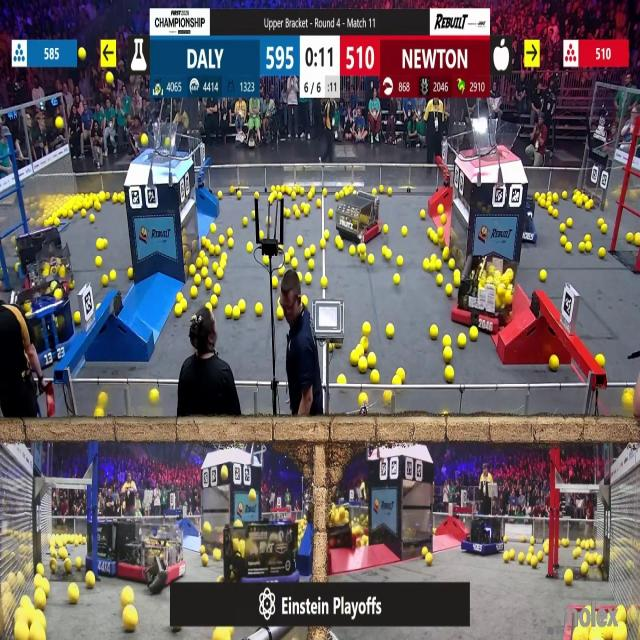ball_airborne: (624, 388, 635, 411), (106, 72, 114, 84), (249, 489, 256, 502), (141, 134, 148, 146), (57, 116, 64, 128), (78, 46, 84, 58), (165, 138, 172, 148)
ball_ground: (124, 610, 138, 633), (121, 589, 132, 606), (35, 592, 46, 609), (69, 586, 79, 604), (86, 572, 96, 588), (550, 355, 560, 370), (366, 353, 376, 368), (357, 358, 367, 372), (369, 368, 378, 382), (446, 365, 454, 380), (564, 570, 572, 584), (445, 348, 453, 362), (150, 389, 158, 403), (99, 392, 107, 406), (386, 324, 394, 337), (429, 325, 437, 338), (337, 237, 345, 250), (458, 336, 466, 348), (362, 322, 370, 334), (597, 354, 605, 366), (384, 391, 392, 403), (582, 563, 590, 575), (255, 304, 262, 317), (469, 327, 476, 340), (225, 306, 232, 319), (175, 305, 182, 318), (351, 352, 358, 365), (96, 409, 105, 419), (444, 337, 452, 348), (213, 550, 221, 561), (393, 274, 400, 286), (74, 313, 81, 325), (277, 308, 284, 320), (358, 392, 365, 404), (435, 274, 442, 286), (454, 275, 461, 287), (204, 522, 211, 534), (571, 631, 580, 640), (338, 375, 346, 385), (627, 234, 635, 244), (360, 338, 368, 348), (180, 301, 188, 311), (396, 367, 404, 377), (66, 560, 72, 573), (539, 271, 546, 282), (306, 274, 313, 285), (578, 242, 585, 253), (234, 308, 241, 319), (203, 555, 210, 566), (97, 239, 104, 250), (60, 548, 67, 559), (37, 564, 44, 575), (273, 276, 279, 288), (444, 248, 450, 260), (240, 302, 246, 314), (393, 376, 401, 385), (386, 248, 392, 260), (426, 554, 432, 566), (43, 582, 49, 594), (211, 295, 218, 305), (213, 284, 220, 294), (102, 276, 109, 286), (519, 554, 526, 564), (195, 277, 202, 287), (188, 266, 195, 276), (205, 279, 212, 289), (585, 553, 592, 563), (510, 551, 517, 561), (190, 286, 196, 297), (309, 261, 315, 272), (435, 261, 441, 272), (447, 284, 453, 295), (424, 261, 430, 272), (586, 242, 592, 253), (76, 558, 82, 569), (531, 557, 537, 568), (26, 303, 32, 314), (358, 244, 365, 253), (284, 254, 291, 263), (321, 278, 327, 288), (599, 248, 605, 258), (290, 260, 296, 270), (110, 272, 116, 282), (264, 255, 270, 265), (296, 237, 302, 247), (306, 248, 312, 258), (217, 270, 223, 280), (303, 295, 309, 305), (247, 243, 253, 253), (449, 261, 455, 271), (566, 241, 572, 251), (288, 247, 294, 257), (396, 255, 402, 265), (310, 246, 316, 256), (553, 208, 559, 218), (284, 208, 290, 218), (439, 205, 445, 215), (203, 256, 209, 266), (202, 238, 208, 248), (553, 192, 559, 202), (118, 192, 124, 202), (572, 550, 578, 560), (212, 264, 219, 272), (586, 202, 593, 210), (220, 252, 227, 260), (129, 269, 134, 280), (360, 253, 366, 262), (601, 223, 607, 232), (350, 246, 356, 255), (202, 269, 208, 278), (560, 223, 566, 232), (197, 260, 203, 269), (218, 237, 224, 246), (537, 553, 543, 562), (176, 292, 182, 301), (560, 237, 566, 246), (214, 246, 220, 255), (100, 191, 106, 200), (428, 231, 434, 240), (269, 197, 275, 206), (97, 256, 102, 266), (401, 225, 406, 235), (503, 552, 508, 562), (635, 236, 640, 246), (96, 202, 101, 212), (543, 543, 548, 553), (527, 554, 532, 564), (420, 210, 426, 218), (320, 240, 326, 248), (316, 200, 322, 208), (442, 215, 448, 223), (80, 208, 86, 216), (207, 303, 213, 311), (294, 211, 300, 219), (440, 227, 446, 235), (422, 546, 428, 554), (539, 200, 545, 208), (277, 194, 283, 202), (308, 190, 314, 198), (279, 269, 285, 277), (336, 191, 342, 199), (598, 218, 604, 226), (563, 538, 569, 546), (227, 239, 232, 248), (367, 254, 372, 263), (259, 232, 264, 241), (324, 231, 329, 240), (567, 218, 572, 227), (305, 207, 310, 216), (297, 274, 302, 283), (576, 199, 581, 208), (363, 536, 368, 545), (562, 191, 568, 198), (244, 216, 248, 226), (217, 190, 222, 198), (227, 230, 232, 238), (388, 187, 393, 195), (322, 188, 327, 196), (430, 253, 435, 261), (112, 192, 116, 202), (68, 210, 73, 218), (254, 191, 259, 199), (537, 194, 542, 202), (291, 191, 296, 199), (384, 224, 388, 233), (212, 223, 216, 232), (586, 235, 591, 242), (237, 190, 242, 197), (529, 545, 534, 552), (547, 208, 552, 215), (530, 537, 535, 544), (56, 218, 61, 225), (444, 412, 449, 419), (380, 185, 385, 192), (328, 210, 332, 218), (202, 544, 206, 552), (252, 211, 256, 219), (106, 190, 110, 198), (217, 576, 222, 582), (92, 215, 96, 222), (201, 250, 205, 257), (522, 535, 526, 542), (328, 344, 332, 351), (503, 535, 507, 542), (267, 216, 270, 223)
goal: (466, 120, 521, 160), (127, 130, 188, 160)
robot_blue: (239, 518, 302, 596), (25, 286, 75, 370), (84, 521, 128, 582), (466, 514, 504, 555)
robot_red: (456, 253, 516, 333), (119, 525, 184, 588), (335, 190, 381, 244)
